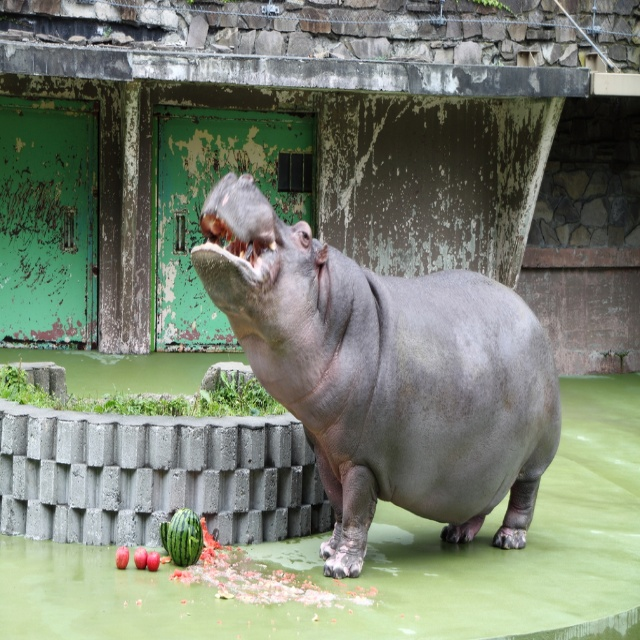Hippopotamus: (188, 168, 564, 585)
